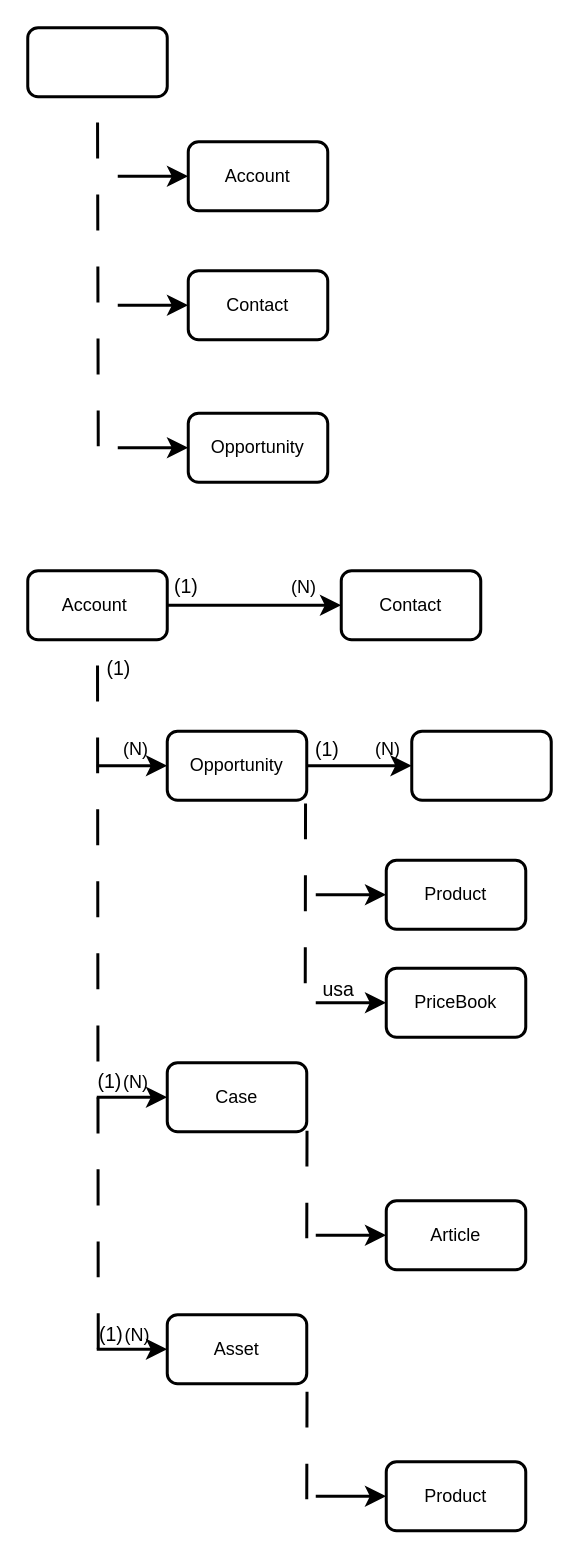
Some shapes in this 578 by 1557 pixel diagram are drawn without their labels. The centre of each missing label's shape, as x and y in pixels:
"Lead" goes at point 97,62.
"Quote" goes at point 481,765.
